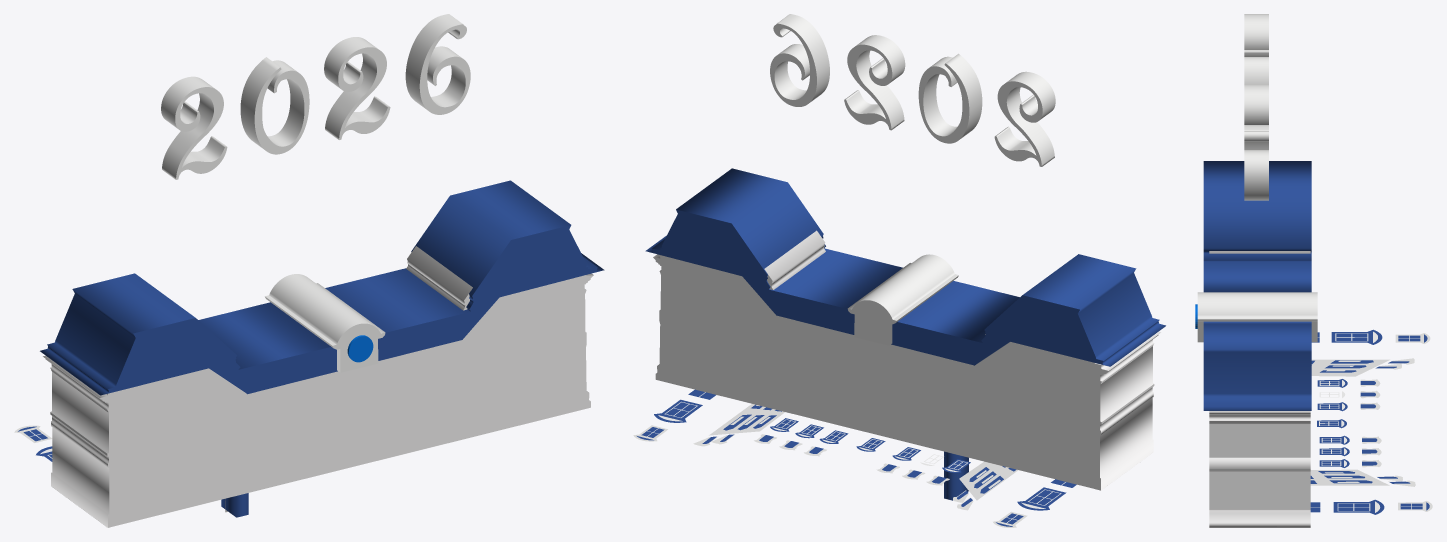
The picture shows the model from 3 angles, left to right: view 1: azimuth 30°, elevation 25°; view 2: azimuth 150°, elevation 25°; view 3: azimuth 270°, elevation 25°; orthographic projection. The views are drawn at different scales.
Parts seen in each view (by area): view 1: batiment blanc, Curve.520; view 2: batiment blanc, Curve.520, Curve.433, Curve.434, Curve.297; view 3: batiment blanc, Curve.520, Curve.434, Curve.433, Curve.361, Curve.370.
Boxes of the visible parts, x1=… form: batiment blanc: x1=40, y1=180, x2=604, y2=527; Curve.520: x1=161, y1=14, x2=470, y2=179; batiment blanc: x1=645, y1=168, x2=1165, y2=490; Curve.520: x1=770, y1=14, x2=1055, y2=166; Curve.433: x1=709, y1=404, x2=784, y2=435; Curve.434: x1=959, y1=461, x2=1018, y2=500; Curve.297: x1=944, y1=451, x2=968, y2=500; batiment blanc: x1=1195, y1=161, x2=1317, y2=527; Curve.520: x1=1244, y1=14, x2=1268, y2=200; Curve.434: x1=1311, y1=359, x2=1389, y2=376; Curve.433: x1=1310, y1=469, x2=1389, y2=485; Curve.361: x1=1333, y1=499, x2=1384, y2=514; Curve.370: x1=1331, y1=329, x2=1382, y2=344.
Size of what is drawn, in the model's own units: 2.07 by 1.79 by 0.9506.
